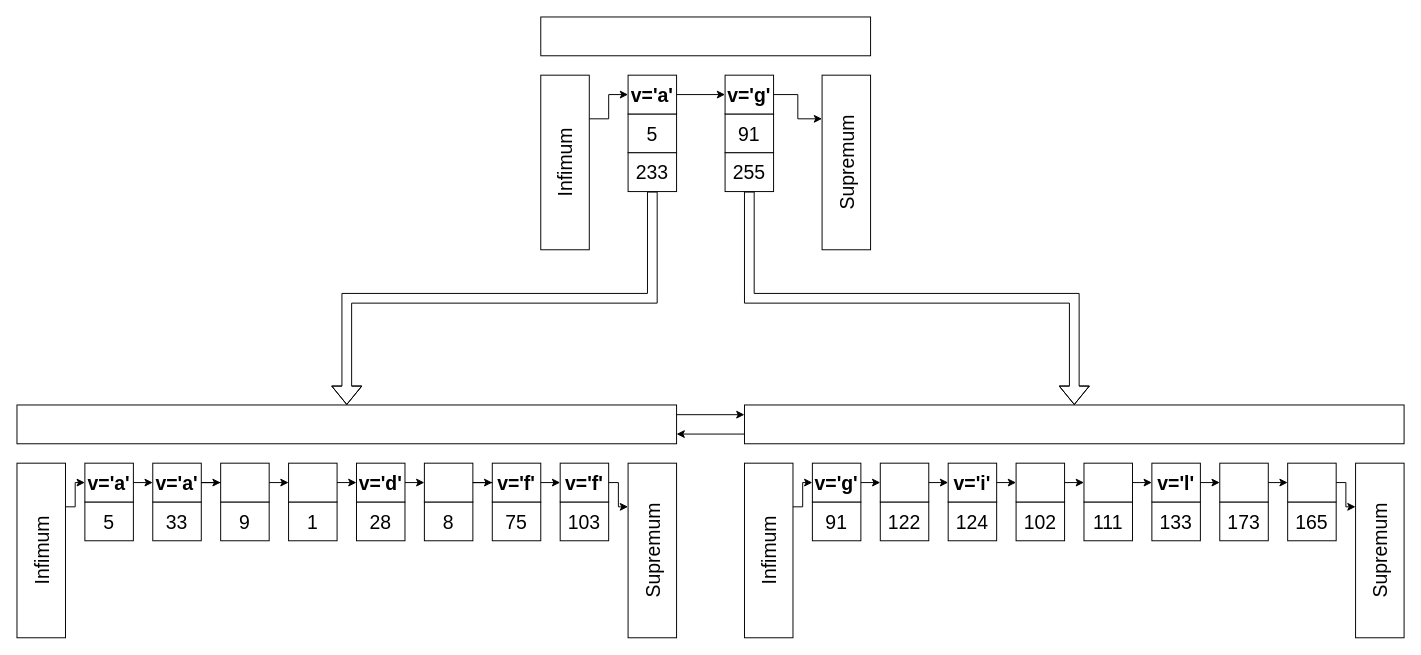
Some shapes in this 1421 by 655 pixel diagram are drawn without their labels. Each missing label, with the centre of its shape:
Page233: (346,424)
Page255: (1074,424)
Page288: (705,36)
v='b': (244,482)
v='c': (312,482)
v='e': (448,482)
v='h': (904,482)
v='j': (1040,482)
v='k': (1107,482)
v='m': (1243,482)
v='n': (1311,482)
